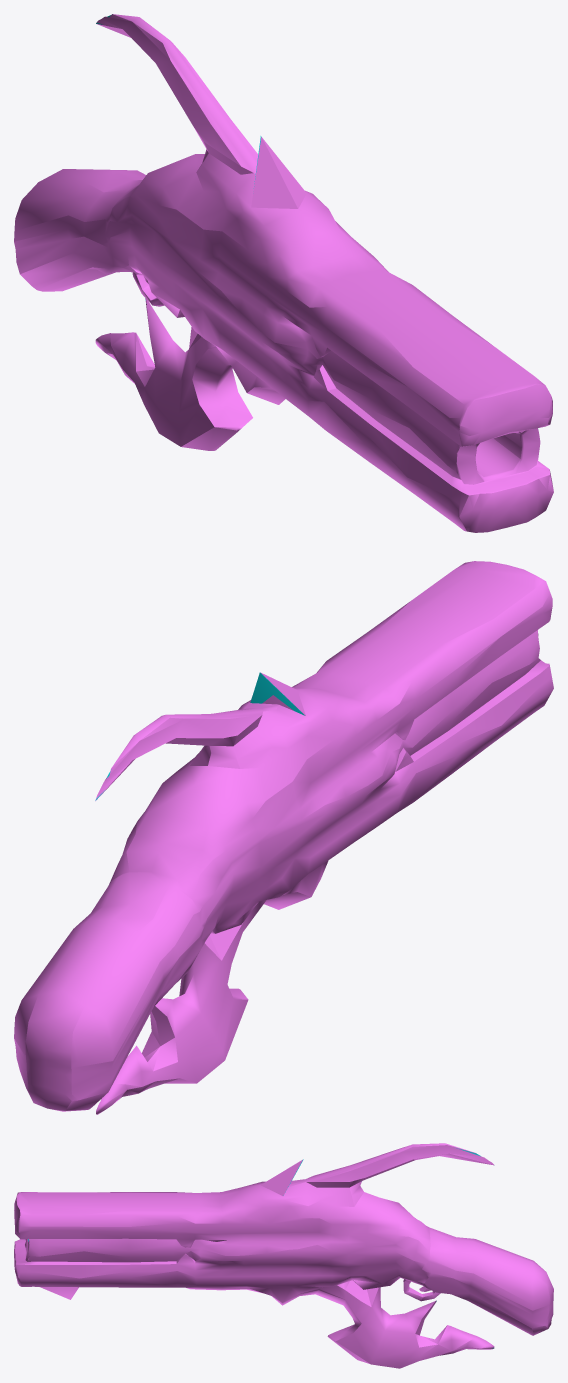
File: escopeta 2.fbx
The picture shows the model from 3 angles, top to bottom: view 1: azimuth 30°, elevation 25°; view 2: azimuth 150°, elevation 25°; view 3: azimuth 270°, elevation 25°; orthographic projection. The views are drawn at different scales.
Visible parts, largest first — view 1: Low001; view 2: Low001; view 3: Low001.
Part boxes in pixels (x1,y1,x2,y2): Low001: [14, 14, 553, 532]; Low001: [14, 561, 553, 1114]; Low001: [14, 1143, 553, 1368].
Size of the model in its own units: 16.93 by 55.67 by 123.
